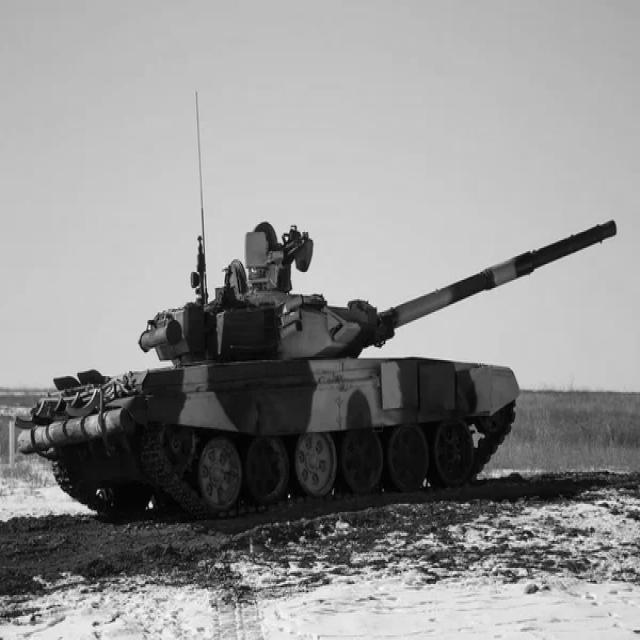Tank: (19, 205, 625, 524)
